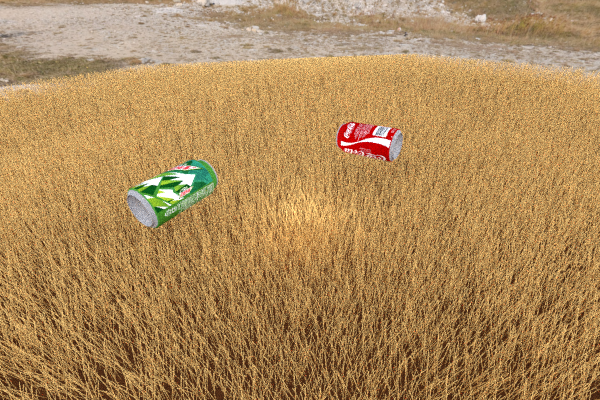bottle: (95, 116, 186, 151)
can: (126, 159, 218, 228), (335, 121, 402, 161)
